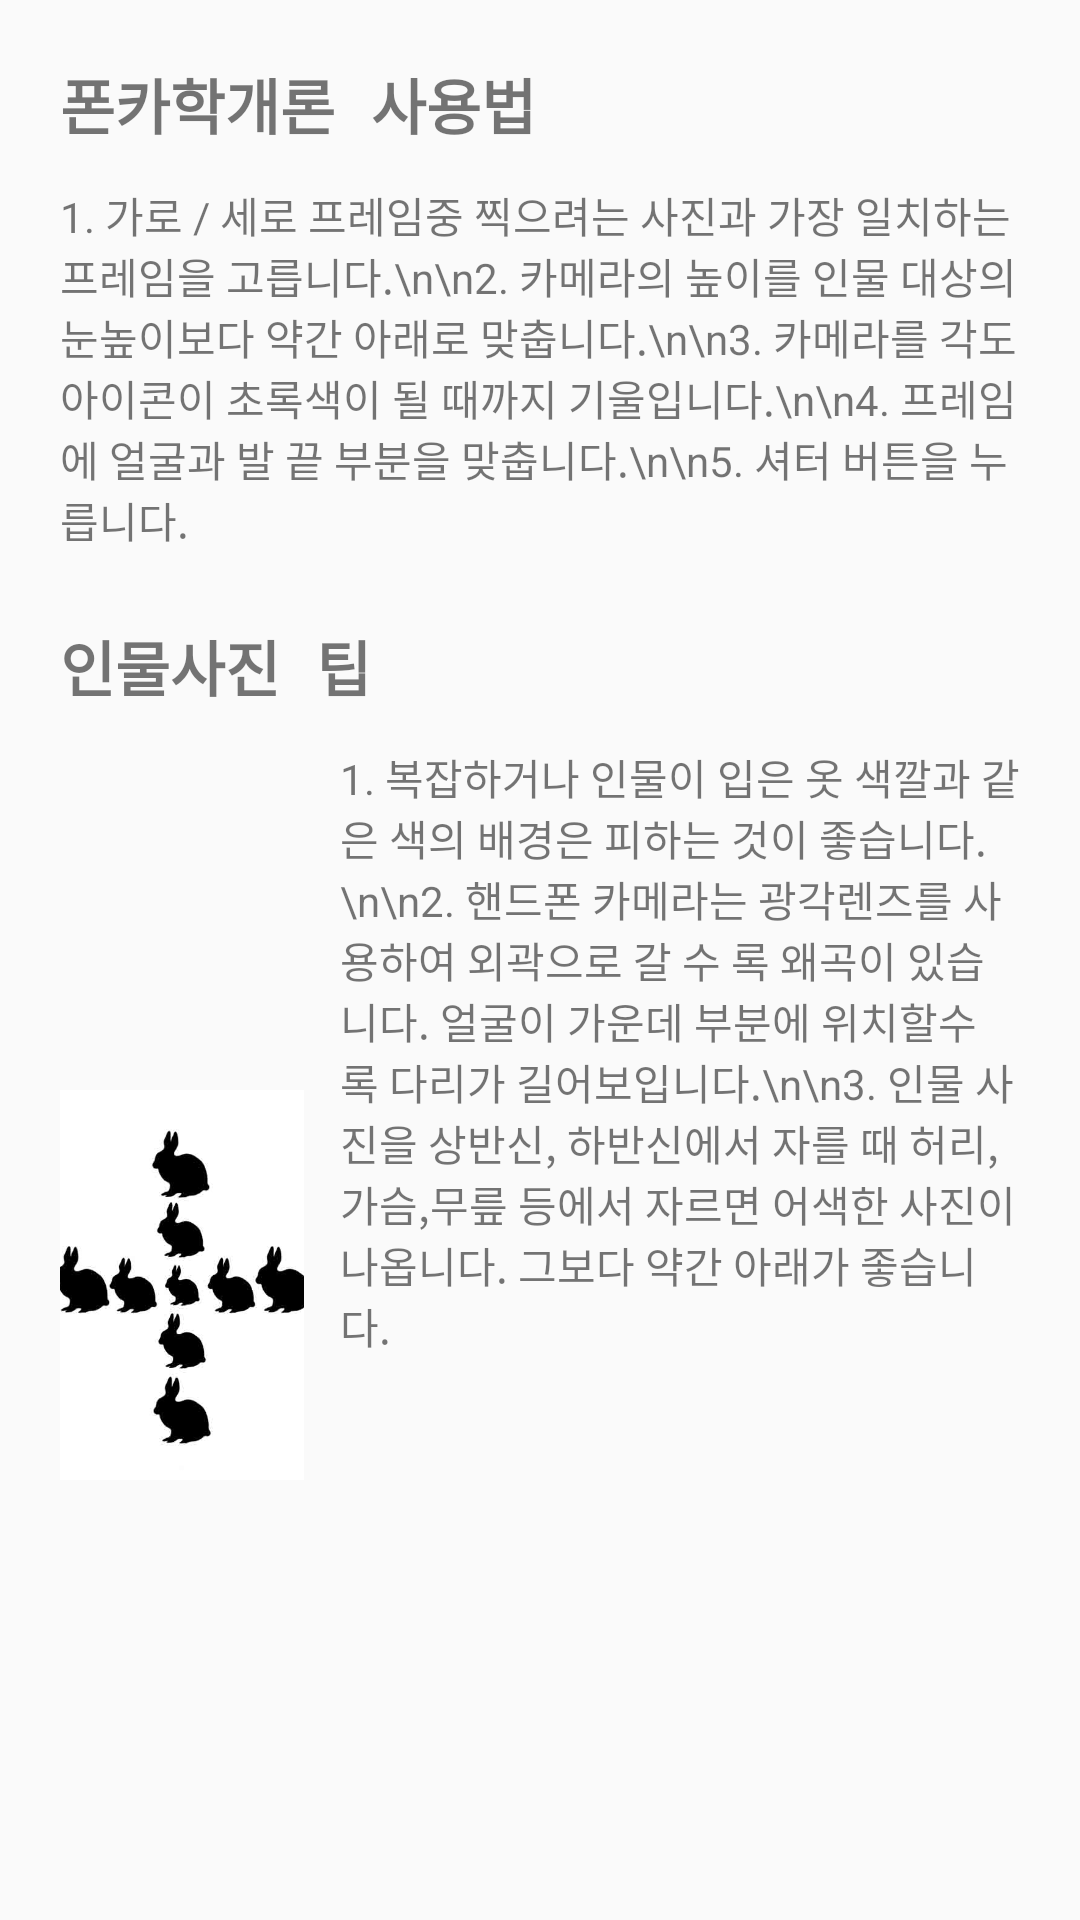

Named icons in this screenshot (1080px×1920px) and their centers, point (x, y):
etc picture: point (182, 1287)
